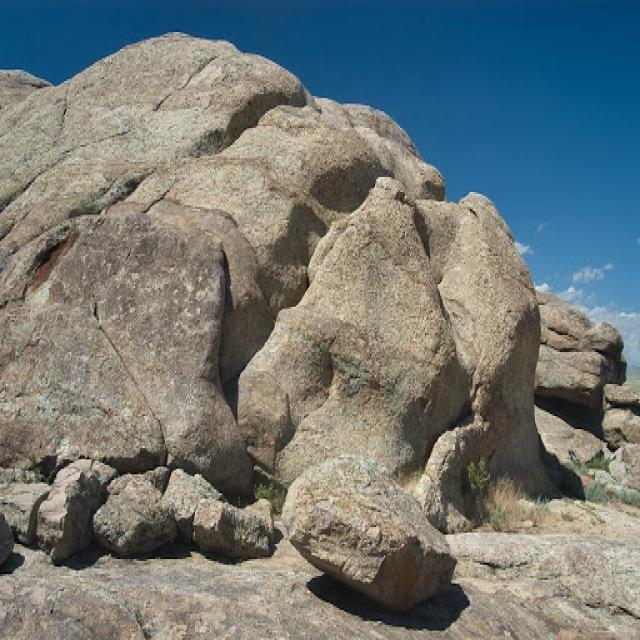Igneous: (1, 26, 608, 622)
